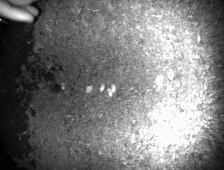corn: (152, 71, 167, 86), (97, 81, 107, 94), (109, 81, 118, 95), (58, 80, 68, 92), (83, 84, 95, 94), (104, 86, 114, 98)
